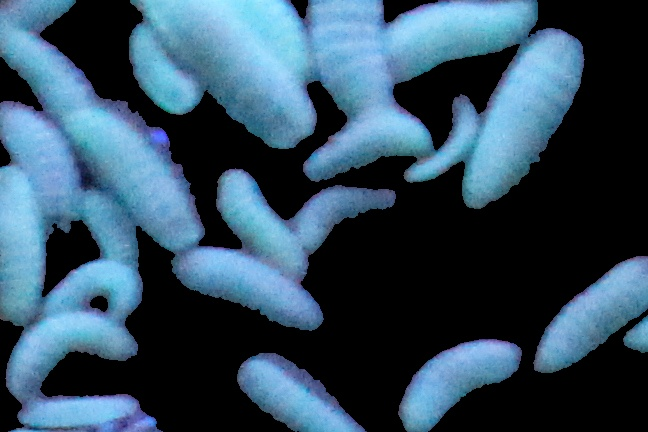larvae: (139, 1, 319, 148), (79, 99, 202, 233), (479, 36, 573, 208), (384, 1, 552, 73), (393, 342, 522, 432), (535, 273, 647, 373), (7, 322, 133, 403), (233, 355, 362, 432), (306, 1, 398, 107), (189, 261, 317, 331), (239, 1, 321, 95), (5, 112, 73, 220), (3, 20, 80, 113), (221, 168, 298, 261), (1, 164, 46, 319), (405, 97, 480, 188), (307, 122, 409, 182), (135, 29, 202, 115), (43, 261, 142, 315), (307, 182, 379, 252), (79, 196, 147, 256), (17, 396, 137, 426)
